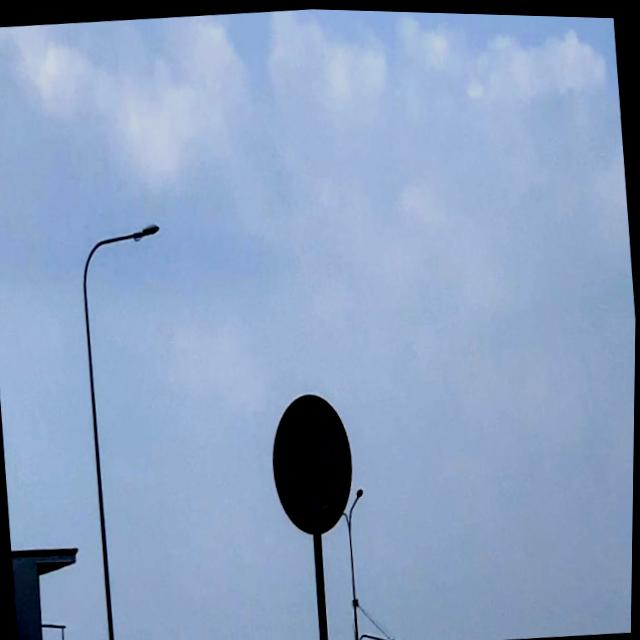Cam quay dau xe: (266, 386, 361, 537)
